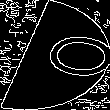O_W: (8, 27, 102, 83)
